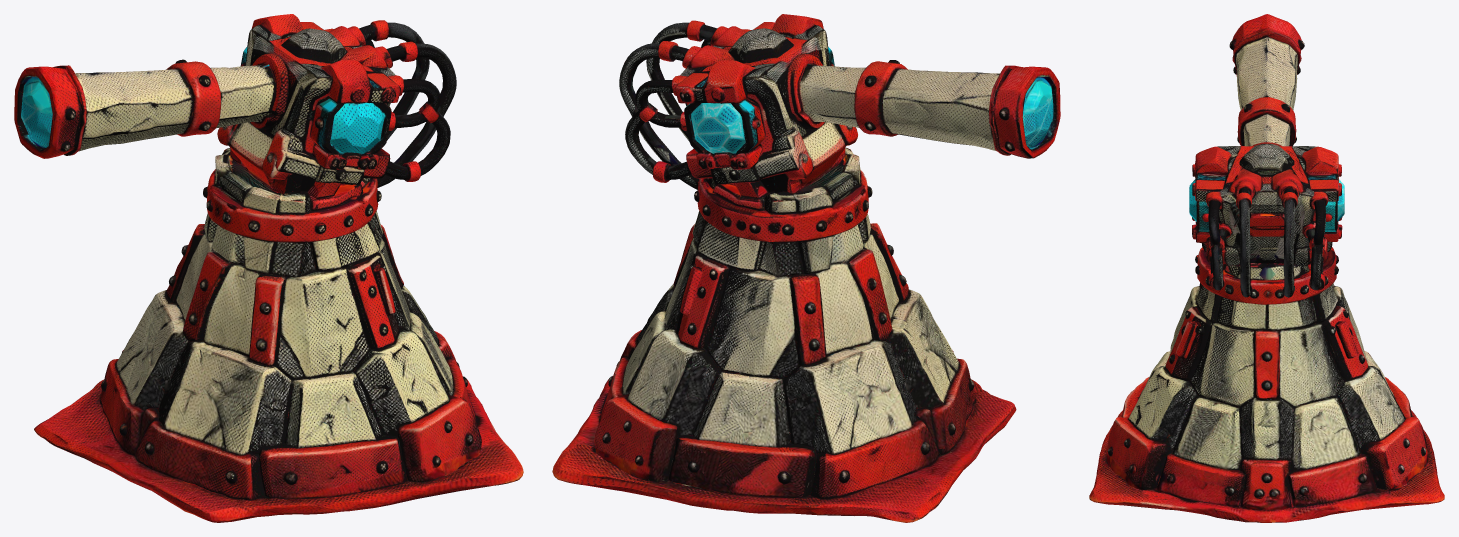
File: inkline_tower.glb
The picture shows the model from 3 angles, left to right: view 1: azimuth 30°, elevation 25°; view 2: azimuth 150°, elevation 25°; view 3: azimuth 270°, elevation 25°; orthographic projection. The views are drawn at different scales.
Bounding box in the file's own units: 1.9 × 1.76 × 1.65.
Materials: 1 (1 with a texture image).
